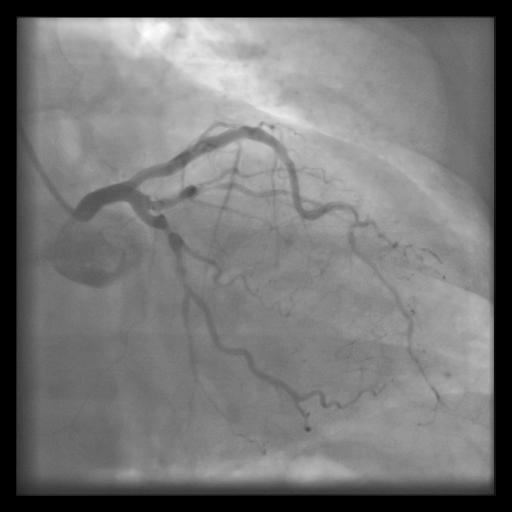Stenosis: (156, 215, 175, 243)
